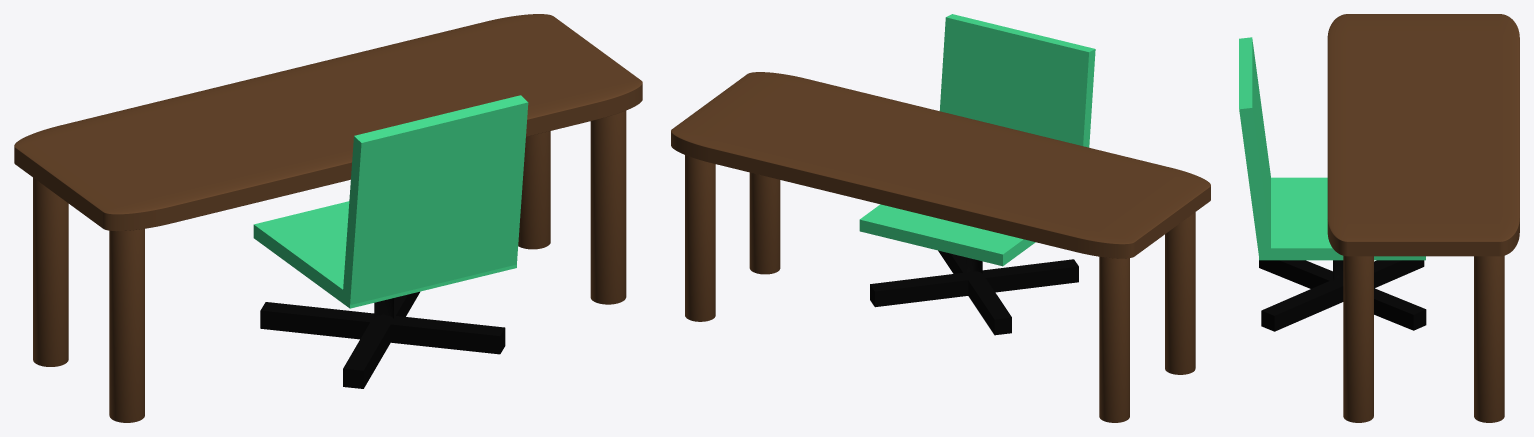
The model's file is table.fbx.
The picture shows the model from 3 angles, left to right: view 1: azimuth 30°, elevation 25°; view 2: azimuth 150°, elevation 25°; view 3: azimuth 270°, elevation 25°; orthographic projection. The views are drawn at different scales.
Visible parts, largest first — view 1: Cylinder, Cube.001; view 2: Cylinder, Cube.001; view 3: Cylinder, Cube.001.
Boxes of the visible parts, x1,y1,x2,y2 form: Cylinder: [14, 14, 642, 422]; Cube.001: [253, 95, 528, 388]; Cylinder: [671, 72, 1210, 422]; Cube.001: [859, 14, 1095, 335]; Cylinder: [1327, 14, 1519, 422]; Cube.001: [1239, 37, 1426, 331].
Size of the model in its own units: 645 by 324 by 336.
